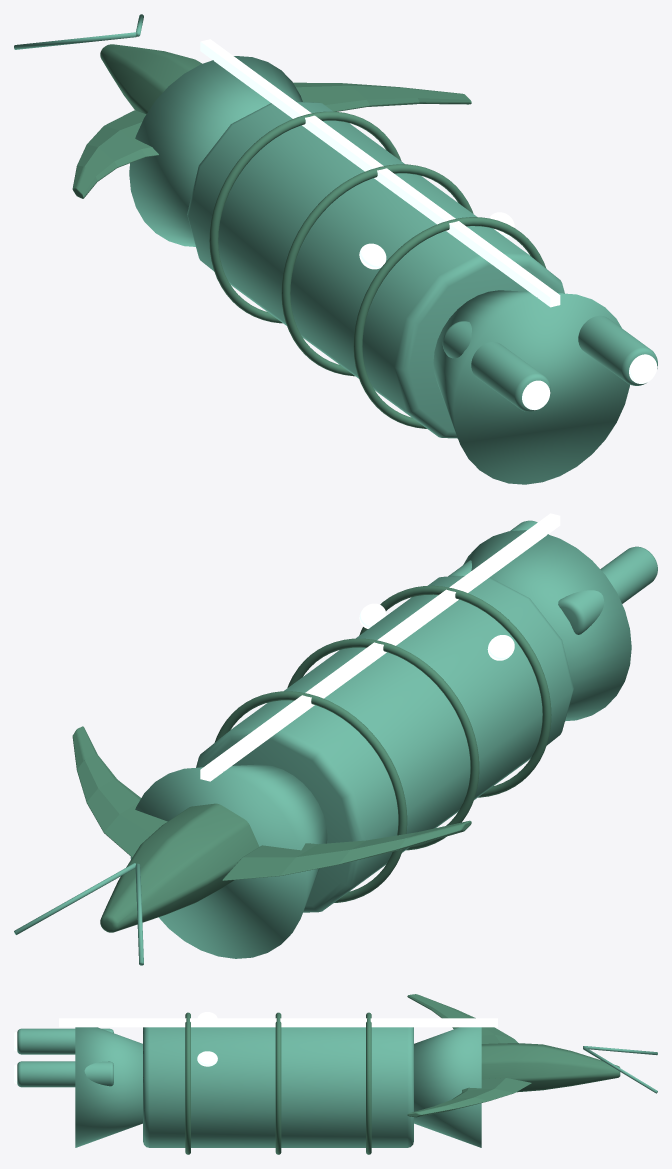
The model's file is kareth-nara-freighter.glb.
3 renders of one model, top to bottom at view 1: azimuth 30°, elevation 25°; view 2: azimuth 150°, elevation 25°; view 3: azimuth 270°, elevation 25°, orthographic. The views are drawn at different scales.
Parts seen in each view (by area): view 1: Cylinder.002, Cone.001, Cone, Cube, hull, Cylinder.003, Torus.002, Torus, Torus.001, wing, wing.001, Cylinder.005 (+1 smaller); view 2: Cylinder.002, Cone, Cone.001, hull, Cube, wing, wing.001, Torus, Cylinder.003, Torus.002, Torus.001, Cylinder.001; view 3: Cylinder.002, Cone.001, Cone, hull, Cube, Cylinder.005, wing.001, Cylinder.003, wing, Torus.001, Torus, Torus.002 (+3 smaller).
Part boxes in pixels (box(x1,y1,x2,y2)): Cylinder.002: box(187, 102, 564, 438); Cone.001: box(433, 290, 629, 484); Cone: box(129, 56, 302, 246); Cube: box(200, 39, 560, 307); hull: box(100, 44, 202, 114); Cylinder.003: box(442, 321, 550, 411); Torus.002: box(353, 217, 546, 428); Torus: box(209, 111, 401, 323); Torus.001: box(281, 164, 473, 376); wing: box(72, 110, 158, 198); wing.001: box(293, 82, 471, 111); Cylinder.005: box(578, 315, 657, 385); Cylinder.002: box(196, 576, 573, 912); Cone: box(130, 764, 327, 958); Cone.001: box(463, 530, 631, 721); hull: box(100, 803, 259, 932); Cube: box(200, 513, 560, 781); wing: box(222, 820, 471, 880); wing.001: box(72, 726, 167, 857); Torus: box(214, 691, 407, 902); Cylinder.003: box(558, 546, 657, 634); Torus.002: box(359, 585, 551, 797); Torus.001: box(287, 638, 479, 850); Cylinder.001: box(14, 863, 135, 934); Cylinder.002: box(143, 1027, 413, 1147); Cone.001: box(75, 1027, 142, 1147); Cone: box(414, 1027, 481, 1147); hull: box(481, 1043, 620, 1092); Cube: box(59, 1018, 497, 1027); Cylinder.005: box(17, 1061, 113, 1087); wing.001: box(407, 1078, 531, 1117); Cylinder.003: box(17, 1028, 113, 1054); wing: box(407, 994, 517, 1043); Torus.001: box(275, 1012, 281, 1154); Torus: box(366, 1012, 371, 1154); Torus.002: box(185, 1012, 190, 1154).
Bounding box in the file's own units: 2.18 × 1.1 × 4.99.
